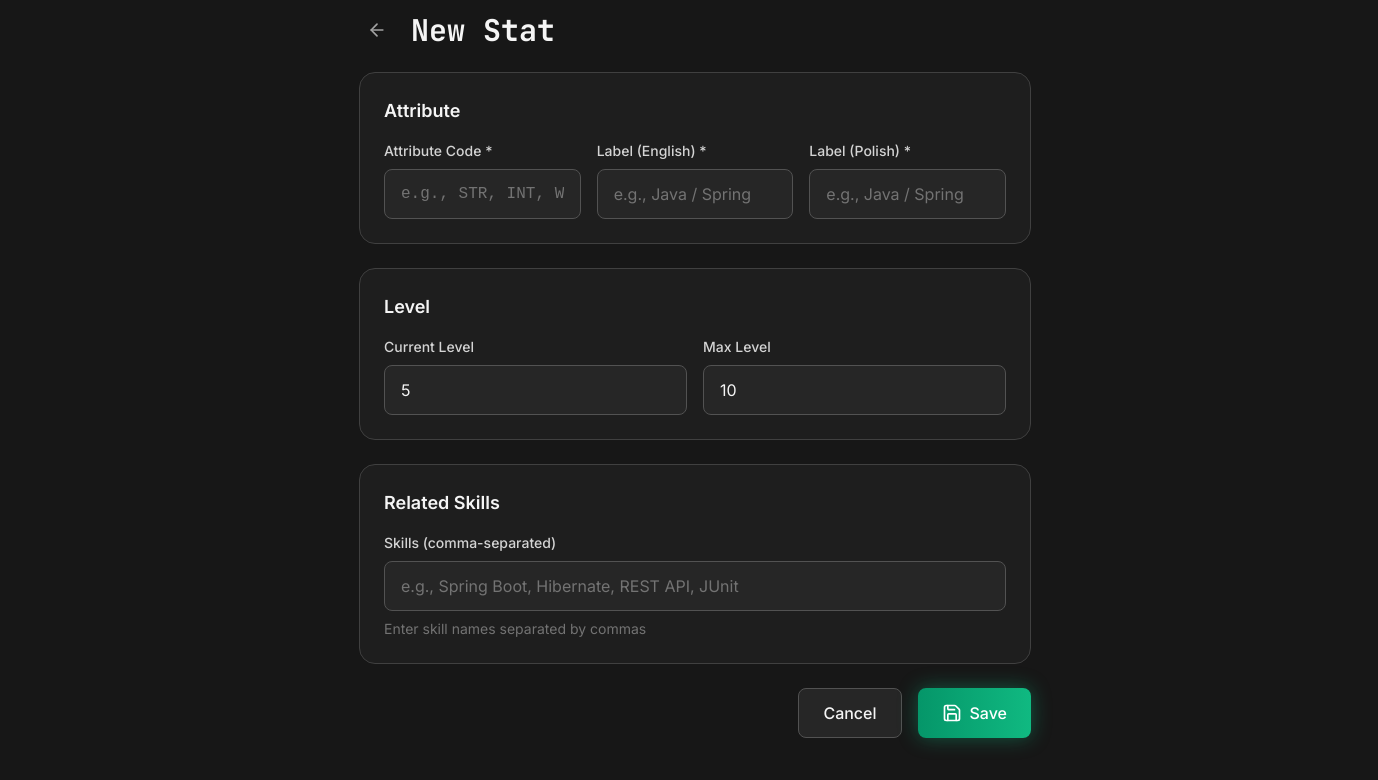
Test: AdminRpgStatForm unsaved changes › leaves the edited form when the admin confirms
Type "edited" into the field with placeholder "e.g., Java / Spring" below "Label (English) *" at [695, 194], box [597,169,793,219]
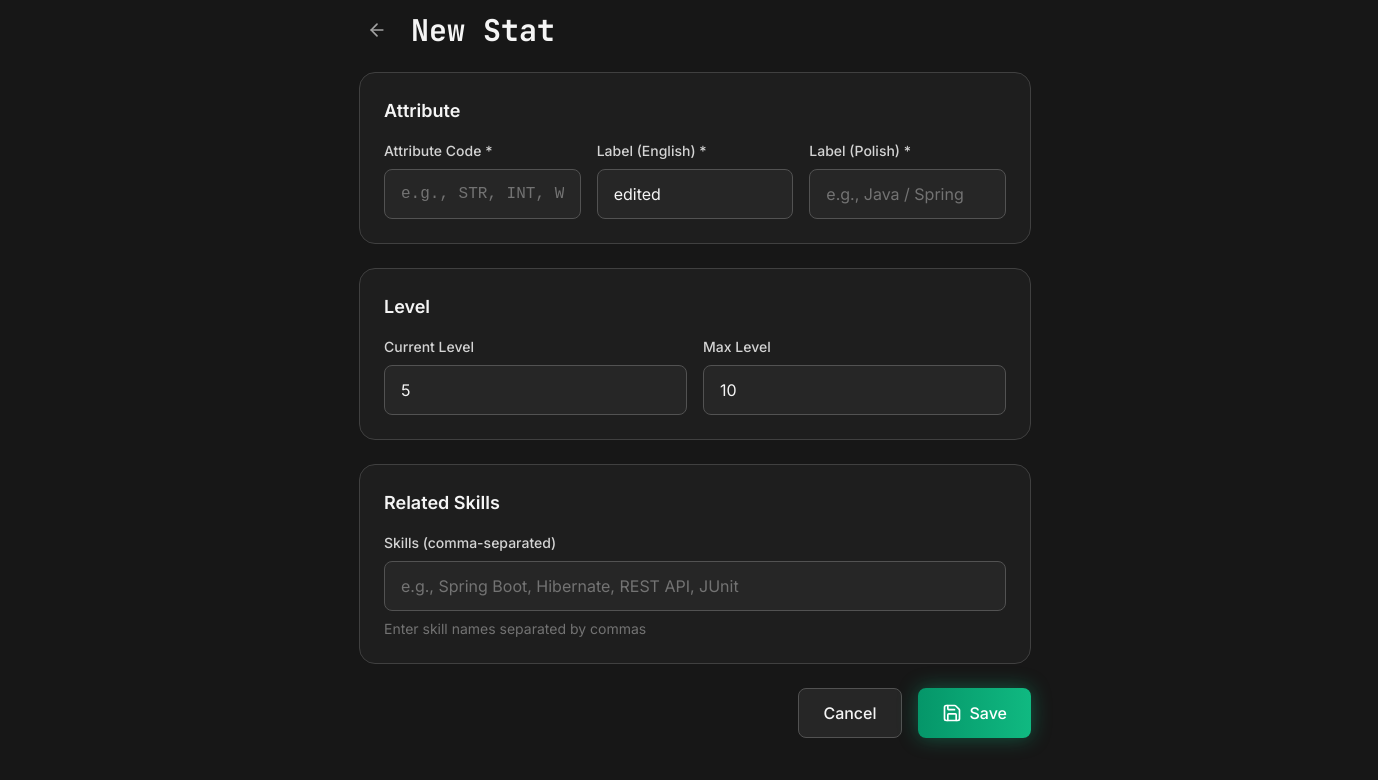
Click the button "Cancel" at [850, 713], box [798,688,902,738]
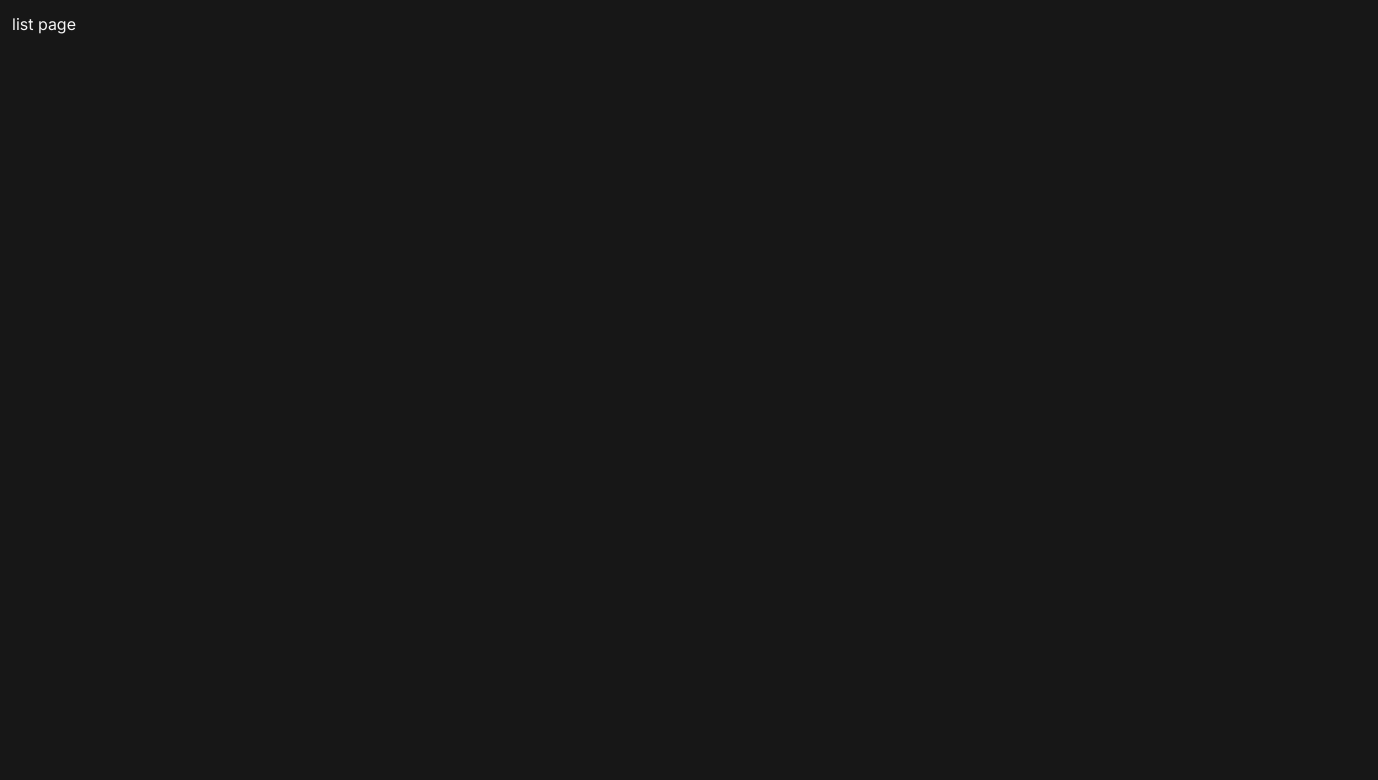
Check: the text "list page" is shown, box [12,14,76,34]
